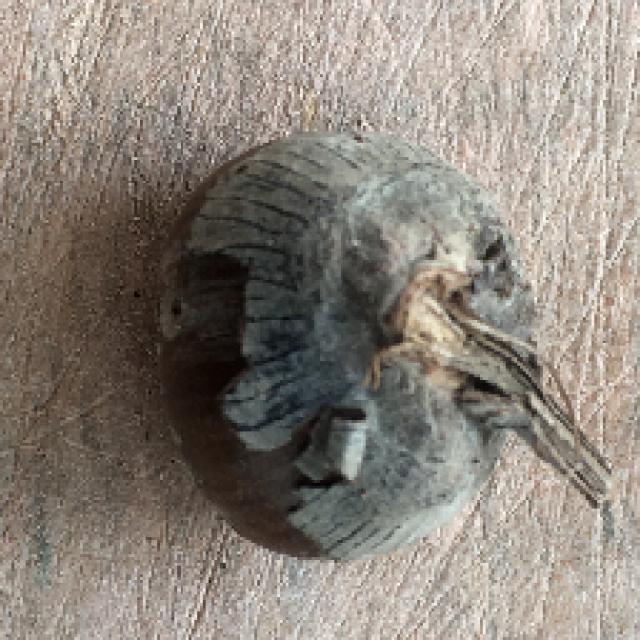DamagedHazelnut: (158, 133, 548, 569)
